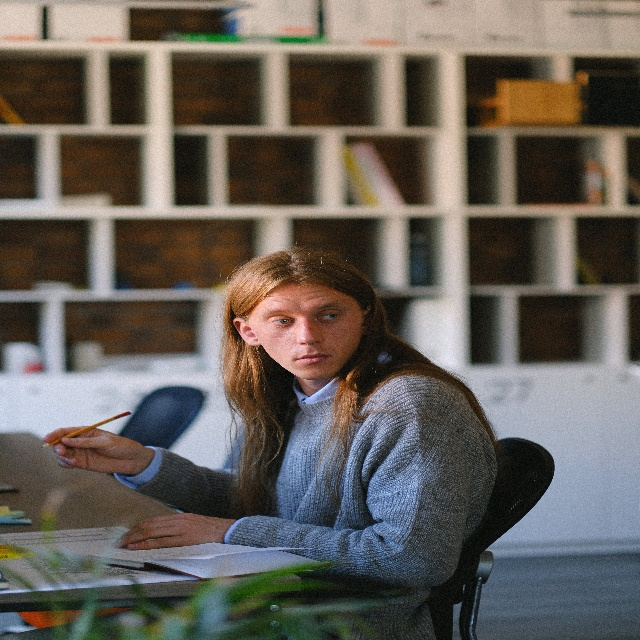Sin_guantes: (44, 423, 145, 476), (115, 514, 223, 552)
